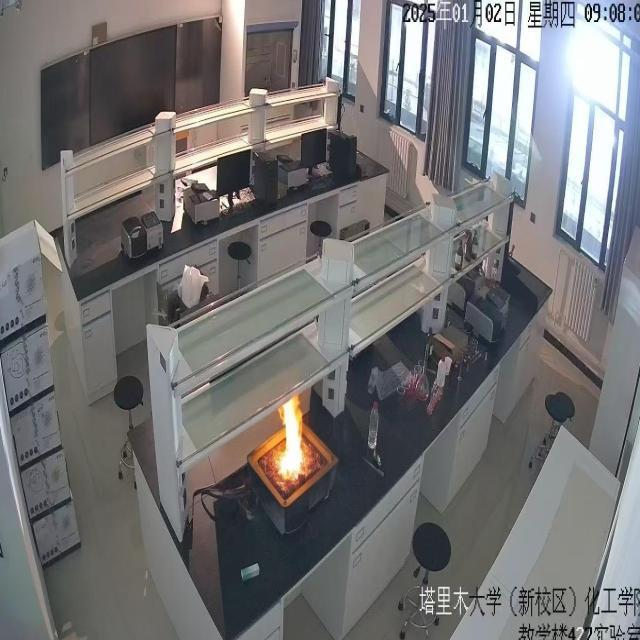smoke: (272, 382, 310, 484)
